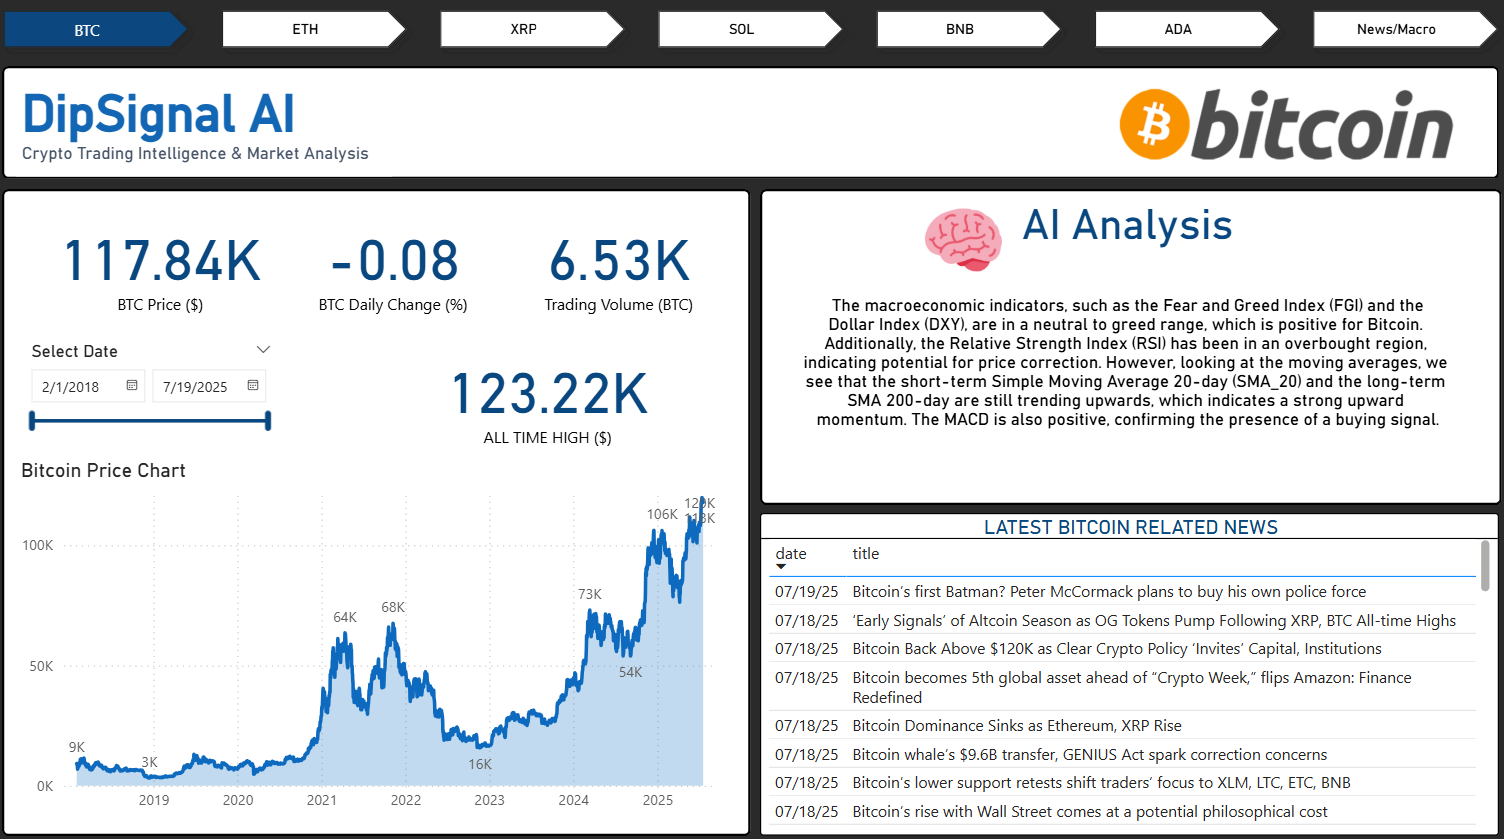

What the dashboard file says about the page in this screenshot:
{"tool":"powerbi","page":{"name":"BTC","canvas":[1280,720],"ordinal":0},"visuals":[{"type":"pageNavigator","box":[0,6.3,1280.4,49.9],"z":0},{"type":"shape","box":[7.3,62.8,1262.5,95.3],"z":1000},{"type":"shape","box":[7.3,165.9,631.2,545.7],"z":2000},{"type":"shape","box":[646.3,165.9,625.4,266.5],"z":3000},{"type":"image","box":[942,65.7,299.6,89.5],"z":4000},{"type":"lineChart","title":"Bitcoin Price Chart","fields":{"Category":["dim_date.Date"],"Y":["Avg(btc_technical.close)"]},"box":[18.9,392.5,598.2,306.4],"z":5000},{"type":"card","fields":{"Values":["_measures.Latest pct_change"]},"box":[246.6,174.9,180.5,108.8],"z":6000},{"type":"card","fields":{"Values":["_measures.BTC Price"]},"box":[35.4,174.9,211.3,108.8],"z":7000},{"type":"card","fields":{"Values":["_measures.Trading Volume"]},"box":[427.4,174.6,200.4,108.9],"z":8000},{"type":"tableEx","title":"LATEST BITCOIN RELATED NEWS","fields":{"Values":["news_scored.date","news_scored.title"]},"box":[646.3,439.2,623.5,272.3],"z":9000},{"type":"slicer","fields":{"Values":["btc_technical.date"]},"box":[19,290.1,227.6,95.2],"z":10000},{"type":"card","title":"AI Analysis","fields":{"Values":["Max(llama_recommendations_btc.rationale)"]},"box":[658,174.6,598.2,241.2],"z":11000},{"type":"card","fields":{"Values":["Max(btc_technical.high)"]},"box":[317.5,290.3,299.6,102.1],"z":12000},{"type":"image","box":[780.9,174.9,75,68.6],"z":13000},{"type":"textbox","box":[19.5,72.3,317.4,83.4],"z":14000}]}

Visuals, with their boxes in screenshot pixels (x1, y1, x2, y2), scaled from the page's 1280x720 canvas onto the 1504x839 screenshot:
pageNavigator: <box>0,7,1503,65</box>
shape: <box>9,73,1492,184</box>
shape: <box>9,193,750,829</box>
shape: <box>759,193,1494,504</box>
image: <box>1107,77,1459,181</box>
"Bitcoin Price Chart" lineChart: <box>22,457,725,814</box>
card - _measures.Latest pct_change: <box>290,204,502,331</box>
card - _measures.BTC Price: <box>42,204,290,331</box>
card - _measures.Trading Volume: <box>502,203,738,330</box>
"LATEST BITCOIN RELATED NEWS" tableEx: <box>759,512,1492,829</box>
slicer - btc_technical.date: <box>22,338,290,449</box>
"AI Analysis" card: <box>773,203,1476,485</box>
card - Max(btc_technical.high): <box>373,338,725,457</box>
image: <box>918,204,1006,284</box>
textbox: <box>23,84,396,181</box>
